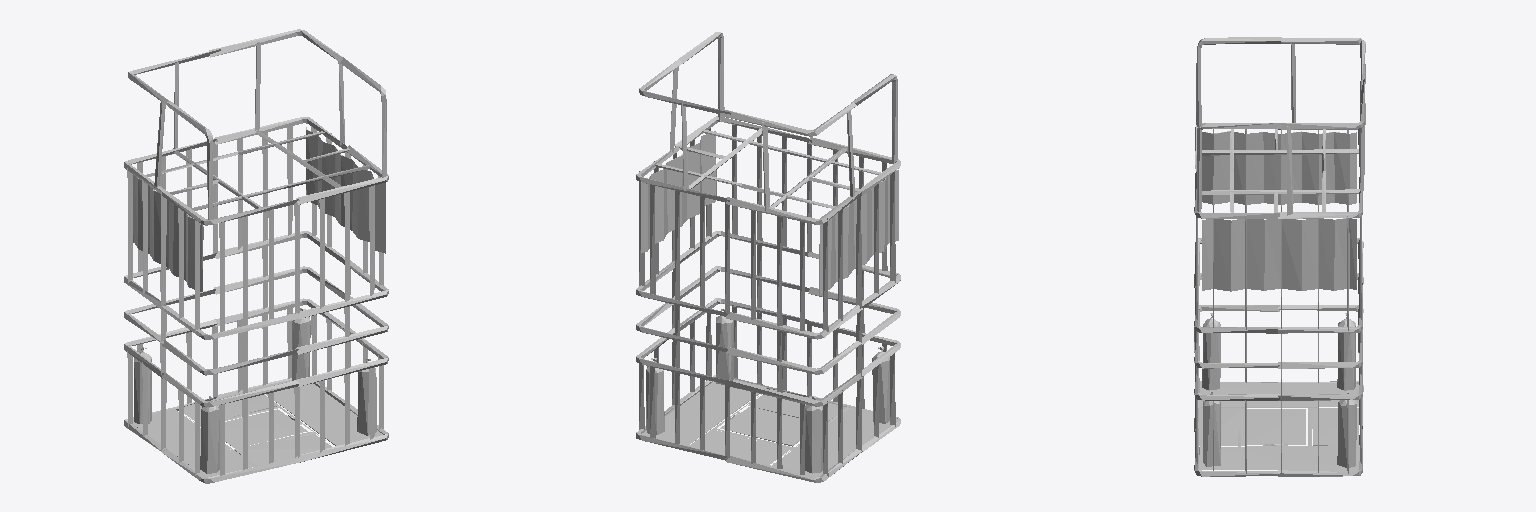
The model's file is SharkCage.obj.
3 views of the same model, side by side, from view 1: azimuth 30°, elevation 25°; view 2: azimuth 150°, elevation 25°; view 3: azimuth 270°, elevation 25° (orthographic).
Visible parts, largest first — view 1: Box006; view 2: Box006; view 3: Box006.
Part boxes in pixels (x1,y1,x2,y2): Box006: (124,29,388,483); Box006: (636,32,900,482); Box006: (1194,37,1365,476).
Size of the model in its own units: 372 by 659 by 291.